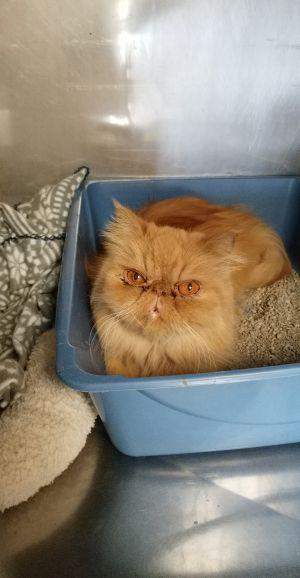persian: (90, 193, 240, 367)
